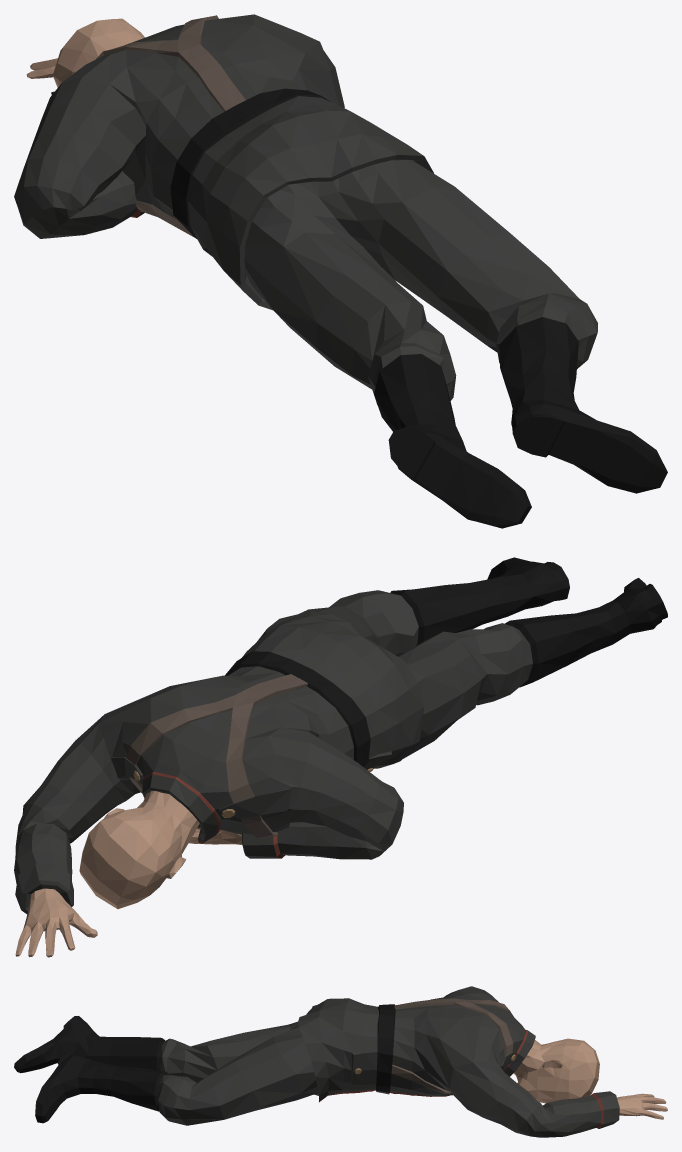
The model's file is Cha_Soldier_Ger_Dead_05.fbx.
3 views of the same model, one above another, from view 1: azimuth 30°, elevation 25°; view 2: azimuth 150°, elevation 25°; view 3: azimuth 270°, elevation 25° (orthographic). The views are drawn at different scales.
Parts seen in each view (by area): view 1: Cha_Soldier_Ger_Dead_05_LOD0; view 2: Cha_Soldier_Ger_Dead_05_LOD0; view 3: Cha_Soldier_Ger_Dead_05_LOD0.
Part boxes in pixels (x1,y1,x2,y2): Cha_Soldier_Ger_Dead_05_LOD0: (14,14,667,528); Cha_Soldier_Ger_Dead_05_LOD0: (14,557,667,957); Cha_Soldier_Ger_Dead_05_LOD0: (14,986,667,1137).
Size of what is drawn, in the model's own units: 71.6 by 34.92 by 203.
